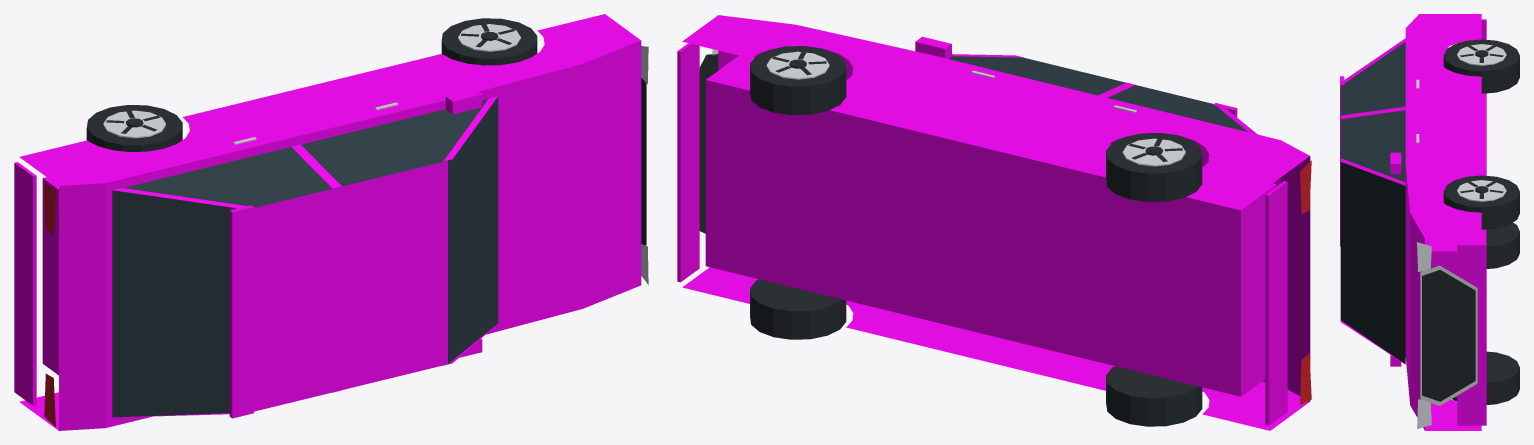
Rendered from audi-a3.glb.
The picture shows the model from 3 angles, left to right: view 1: azimuth 30°, elevation 25°; view 2: azimuth 150°, elevation 25°; view 3: azimuth 270°, elevation 25°; orthographic projection. The views are drawn at different scales.
Parts seen in each view (by area): view 1: audi-a3; view 2: audi-a3; view 3: audi-a3.
Part boxes in pixels (box(x1,y1,x2,y2)): audi-a3: box(14, 14, 648, 430); audi-a3: box(677, 14, 1311, 430); audi-a3: box(1340, 14, 1519, 430).
Size of the model in its own units: 4.34 by 1.82 by 1.46.
